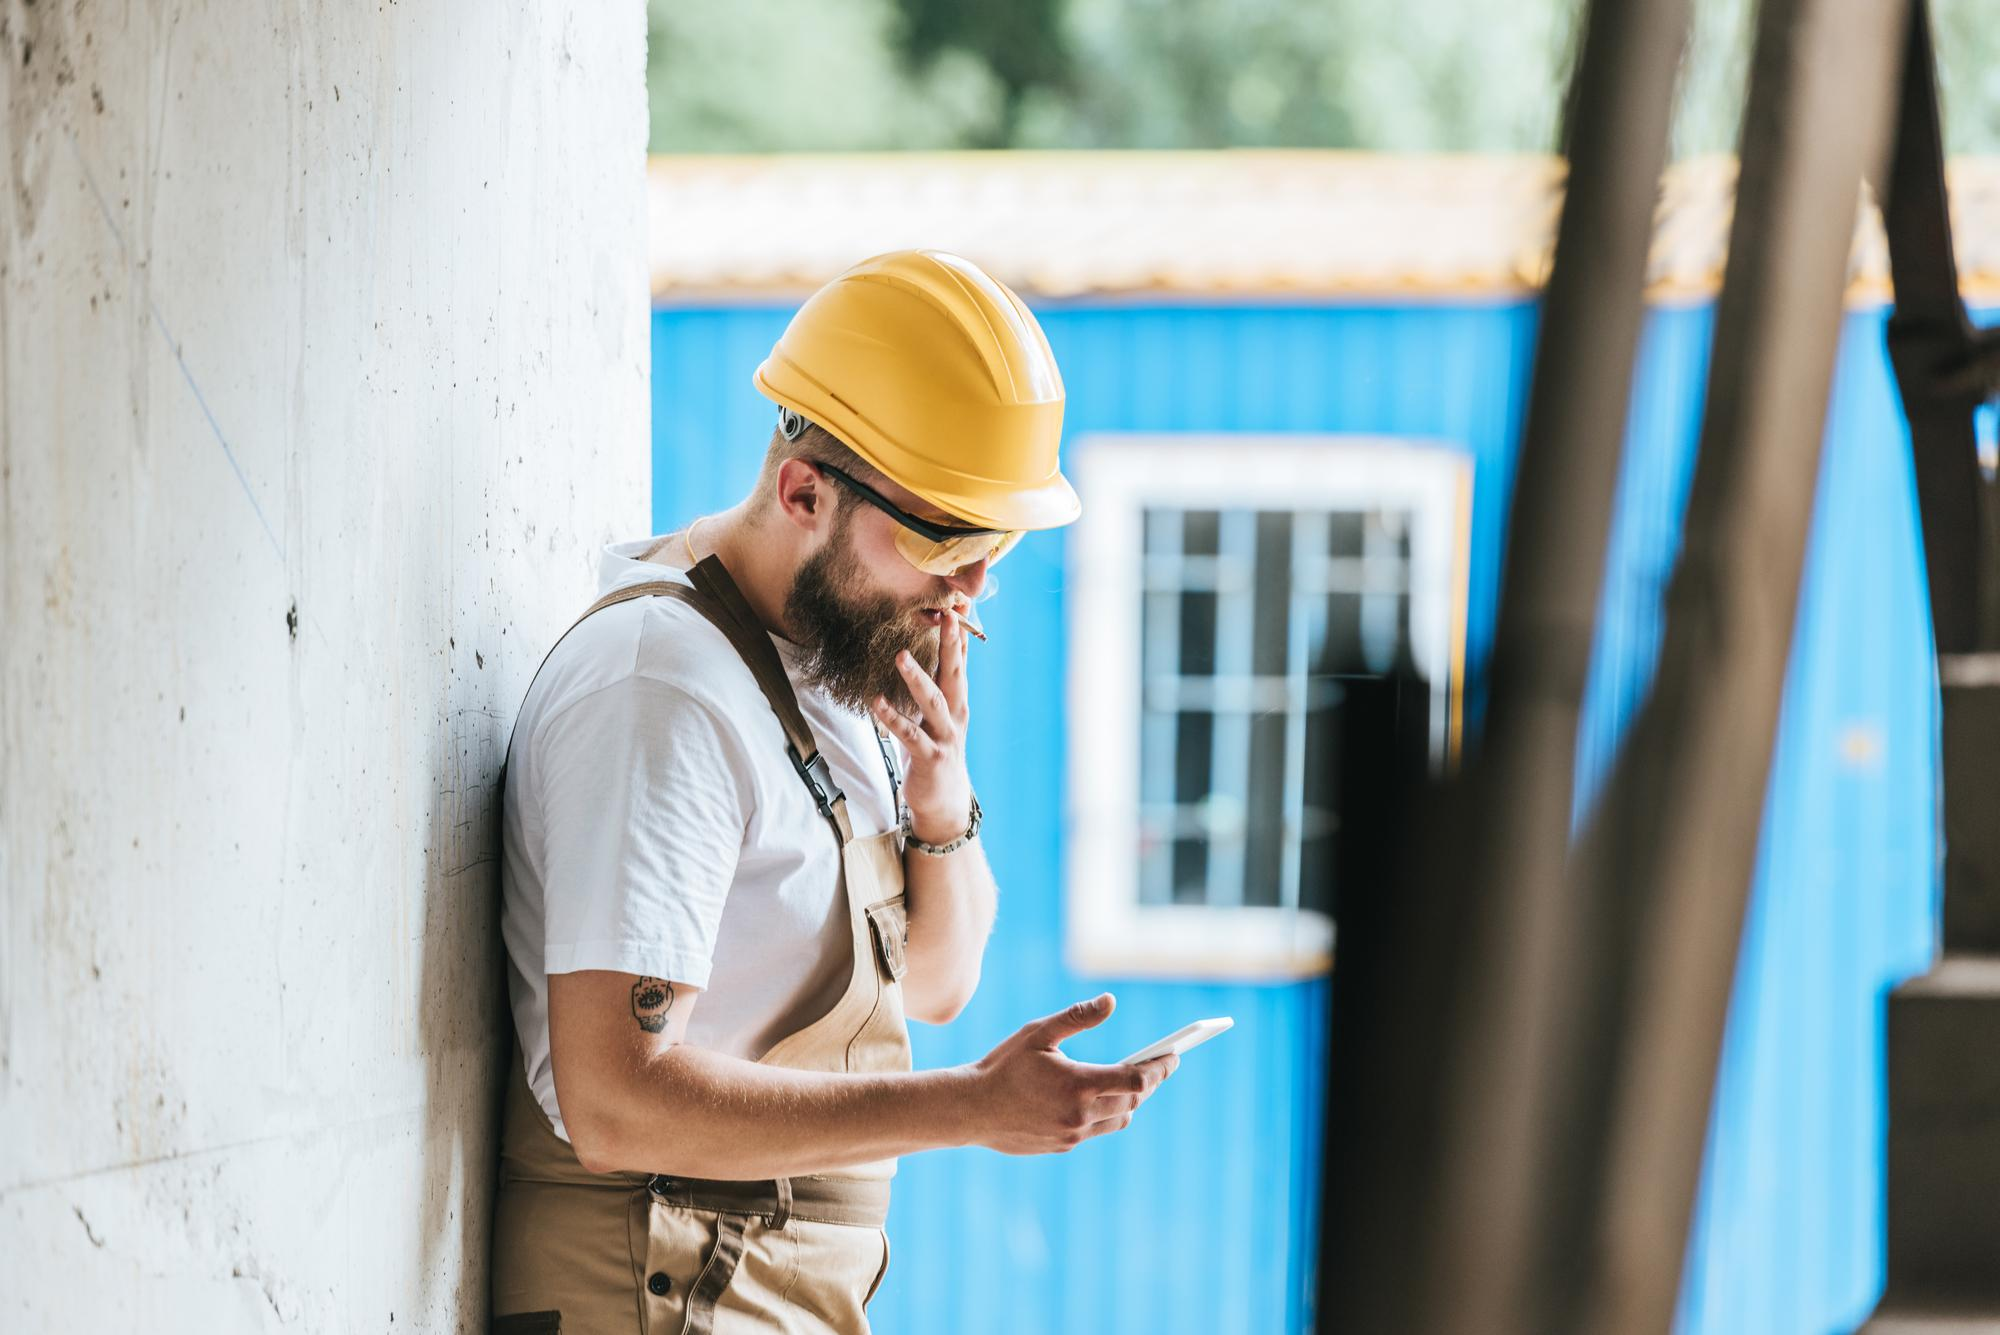cigarette: (937, 608, 987, 644)
